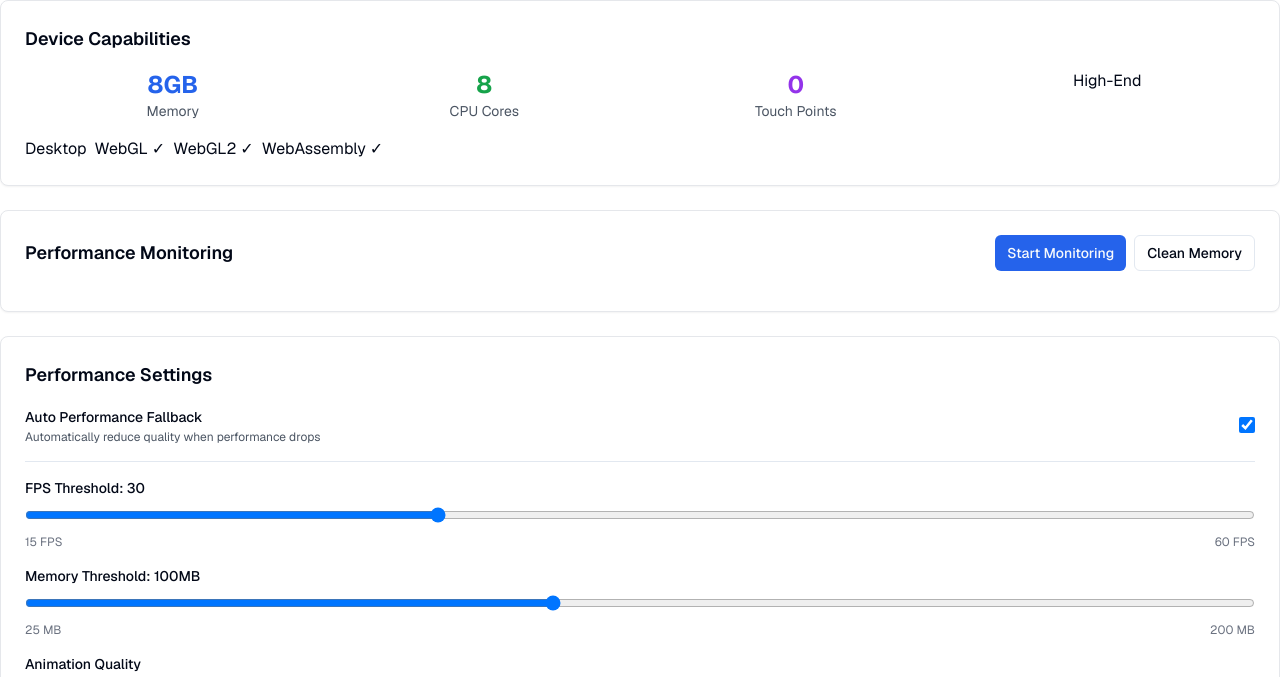
Test: PerformanceSettings › shows simplified animations when optimal settings indicate so
The width and height of the screenshot is (1280, 677).
What coordinates should you click on to do the following:
click the button "Start Monitoring"
I would click on:
 (1061, 253)
Its box is x1=995 y1=235 x2=1126 y2=271.
(page scrolled)
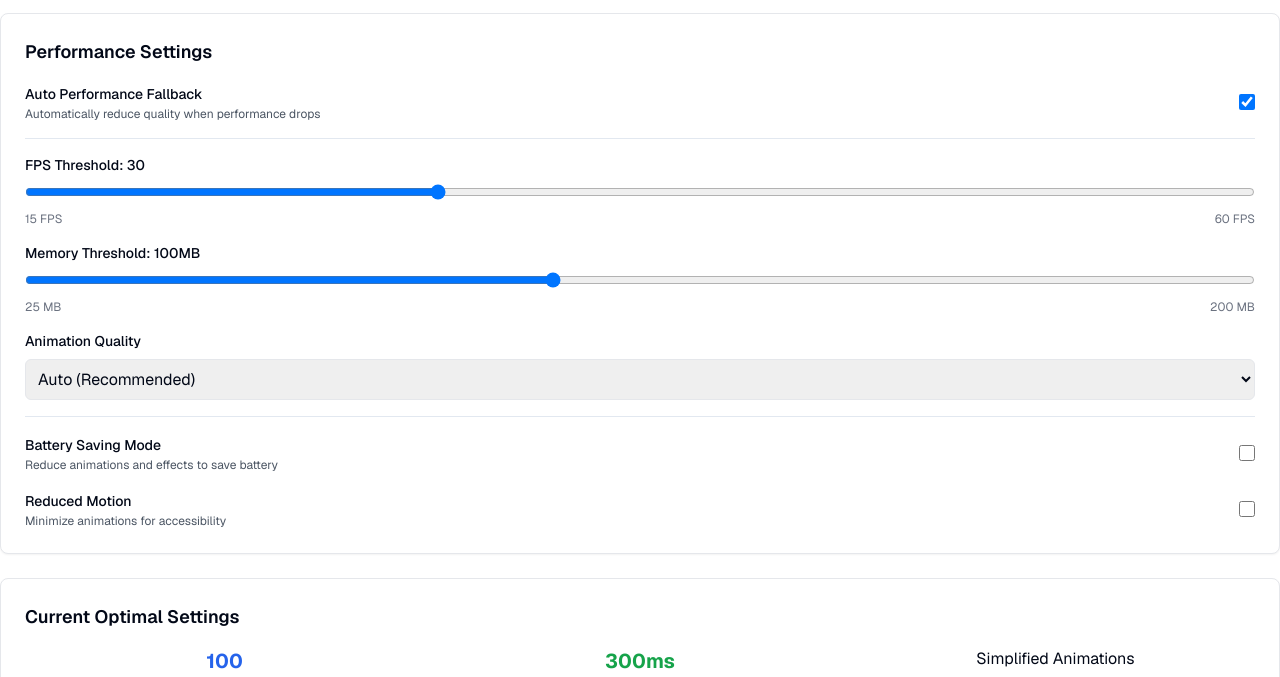
Expected: the text "Simplified Animations" is shown, x1=976 y1=648 x2=1134 y2=669
